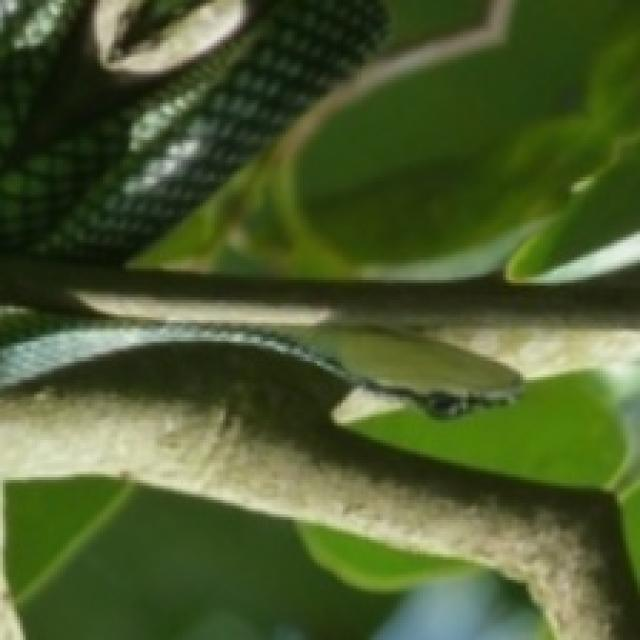paradise tree snake: (0, 0, 388, 261), (0, 306, 521, 417)
